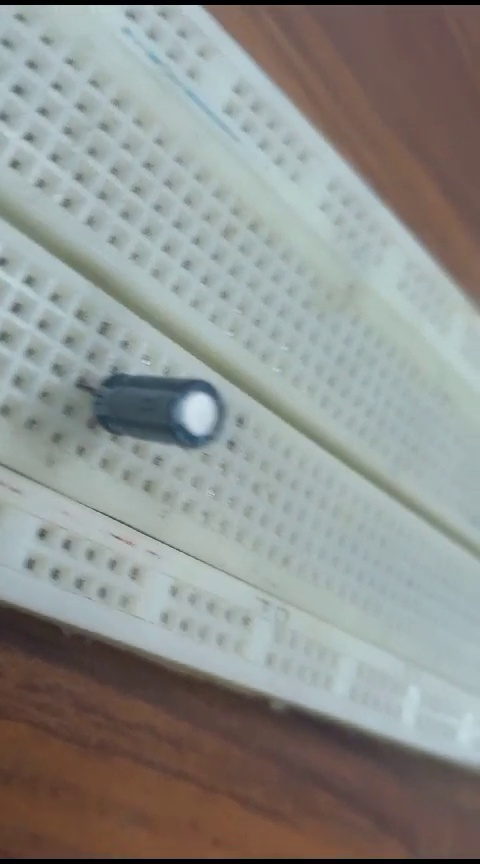capacitor: (84, 360, 227, 463)
